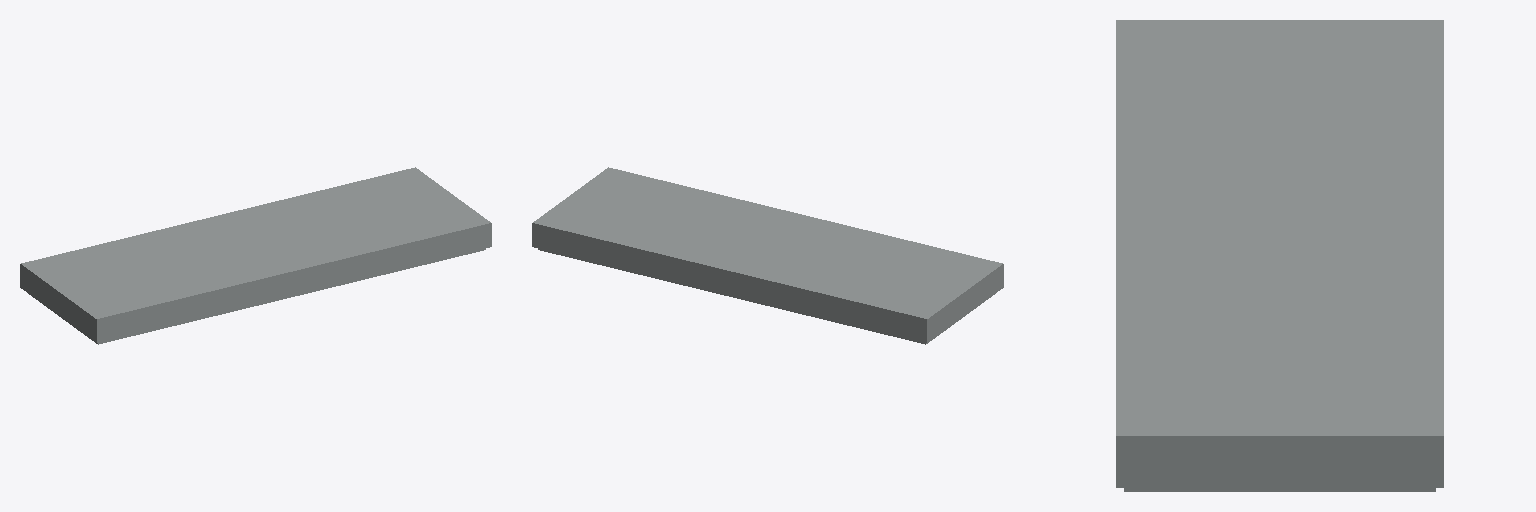
The robot description file, URDF, robot "69729__light_bluish_gray":
<?xml version="1.0"?>
<robot name="69729__light_bluish_gray">
  <link name="69729__light_bluish_gray">
    <inertial>
      <origin xyz="0.000000 -0.000000 -0.001594" rpy="0 0 0"/>
      <mass value="0.002570"/>
      <inertia ixx="5.667820268e-08" ixy="-0.000000000e+00" ixz="-1.130910994e-25" iyy="4.946025752e-07" iyz="5.768246203e-26" izz="5.469229933e-07"/>
    </inertial>
    <visual>
      <geometry>
        <mesh filename="../meshes/visual/69729.obj" scale="1 1 1"/>
      </geometry>
      <material name="69729__light_bluish_gray_color">
        <color rgba="0.630 0.650 0.650 1.000"/>
      </material>
    </visual>
    <collision>
      <geometry>
        <mesh filename="../meshes/collision/69729_hull.obj" scale="1 1 1"/>
      </geometry>
    </collision>
  </link>
</robot>

--- What the picture shows (computed from the rendered views, not written in the file) ---
The picture shows the robot from 3 angles, left to right: view 1: azimuth 30°, elevation 25°; view 2: azimuth 150°, elevation 25°; view 3: azimuth 270°, elevation 25°; orthographic projection.
Robot: 69729__light_bluish_gray — 1 links, 0 joints (none); root link 69729__light_bluish_gray; default pose: all joints at 0.
Visible links, largest first — view 1: 69729__light_bluish_gray; view 2: 69729__light_bluish_gray; view 3: 69729__light_bluish_gray.
Boxes of the visible links, bbox=[...] form: 69729__light_bluish_gray: bbox=[20, 167, 491, 344]; 69729__light_bluish_gray: bbox=[532, 167, 1003, 344]; 69729__light_bluish_gray: bbox=[1116, 20, 1443, 491].
Bounding box of the posed robot: 0.048 × 0.016 × 0.0032 m (x, y, z).
Meshes: 1 distinct files referenced, 1 mesh visuals loaded (1 OBJ).
